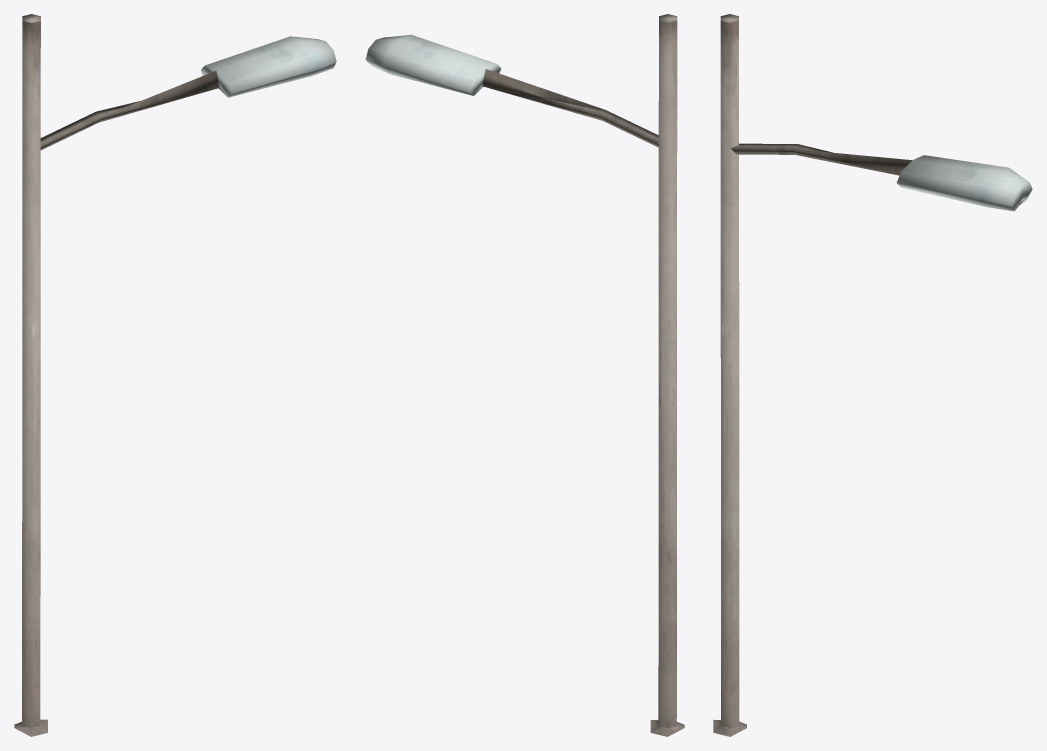
Rendered from street light.fbx.
3 renders of one model, left to right at view 1: azimuth 30°, elevation 25°; view 2: azimuth 150°, elevation 25°; view 3: azimuth 330°, elevation 25°, orthographic.
Visible parts, largest first — view 1: StreetLight_LOD1_13; view 2: StreetLight_LOD1_13; view 3: StreetLight_LOD1_13.
Part boxes in pixels (bbox=[...]): StreetLight_LOD1_13: bbox=[14, 14, 336, 736]; StreetLight_LOD1_13: bbox=[365, 14, 684, 736]; StreetLight_LOD1_13: bbox=[713, 14, 1032, 736].
Bounding box in the file's own units: 451 × 986 × 79.7.
Materials: 1 (1 with a texture image).
